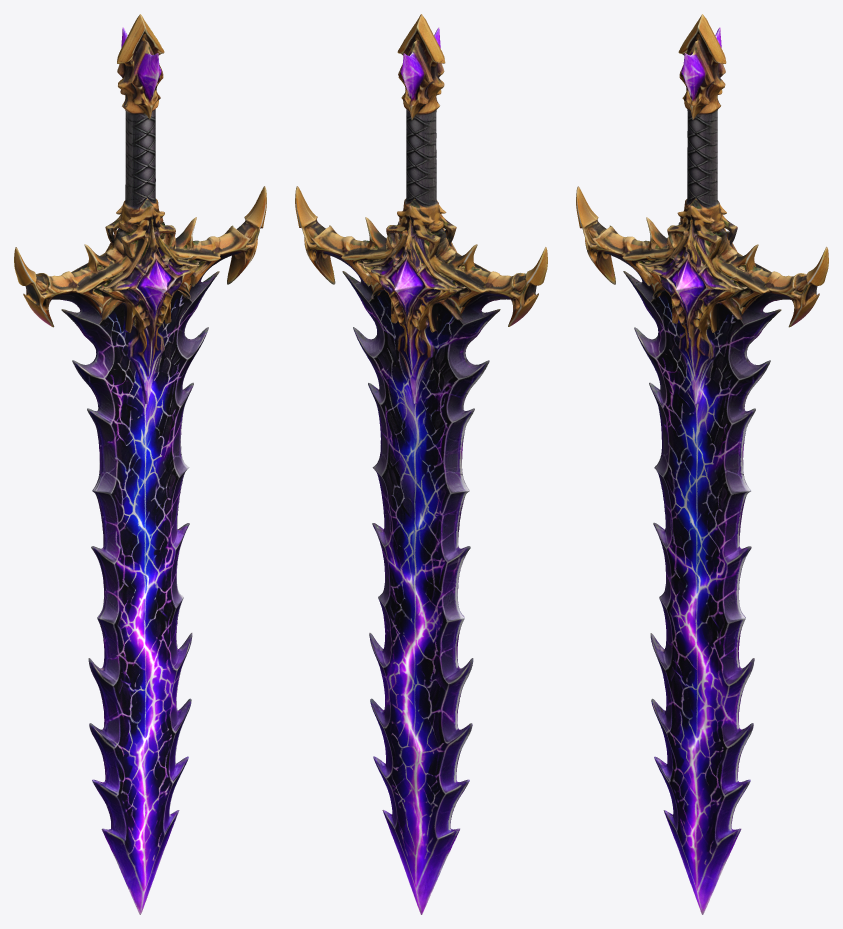
The model's file is Meshy_AI_Aetherstorm_Blade_20260701_texture.fbx.
The picture shows the model from 3 angles, left to right: view 1: azimuth 30°, elevation 25°; view 2: azimuth 150°, elevation 25°; view 3: azimuth 330°, elevation 25°; orthographic projection.
Visible parts, largest first — view 1: Mesh_0; view 2: Mesh_0; view 3: Mesh_0.
Part boxes in pixels (x1,y1,x2,y2): Mesh_0: (14,14,266,914); Mesh_0: (295,14,547,914); Mesh_0: (576,14,828,914).
Size of the model in its own units: 55.55 by 190 by 20.22.
1 material, 1 textured.
